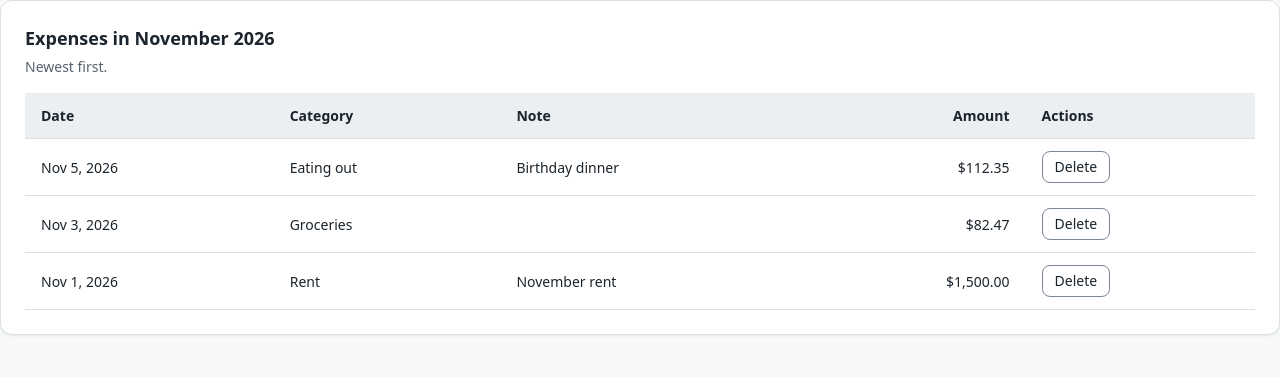
ExpenseList announcements › failure: a throwing deleteExpense shows the action error and leaves the region text unchanged
Click the button with aria-label "Delete $82.47 Groceries expense from Nov 3, 2026": [1076, 224] box [1042,208,1110,240]
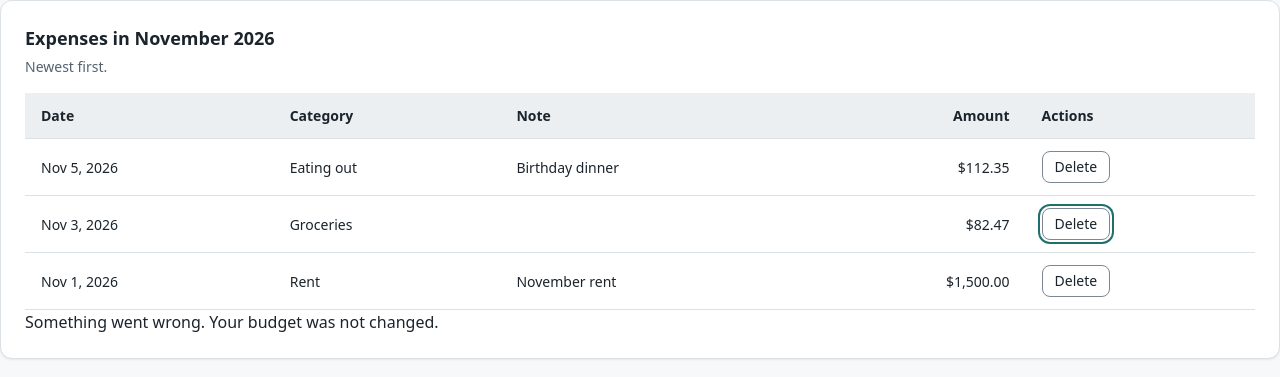
Check: the message reads "Something went wrong. Your budget was not changed.", box [25,311,438,333]
